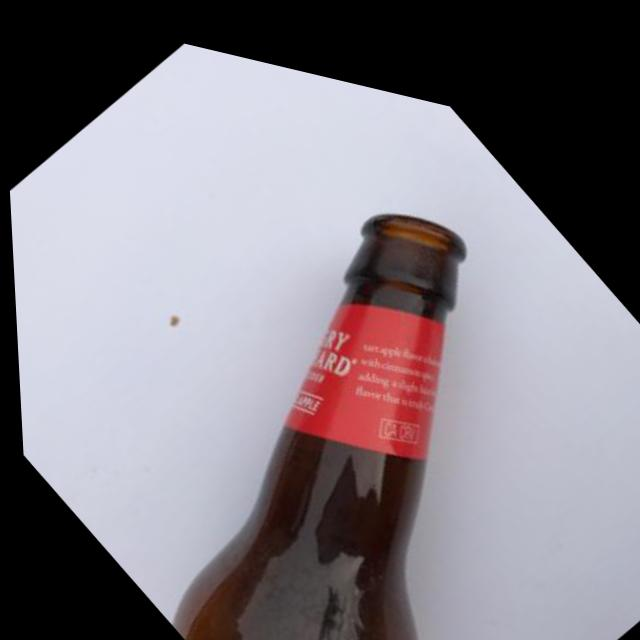glass: (1, 30, 640, 640)
